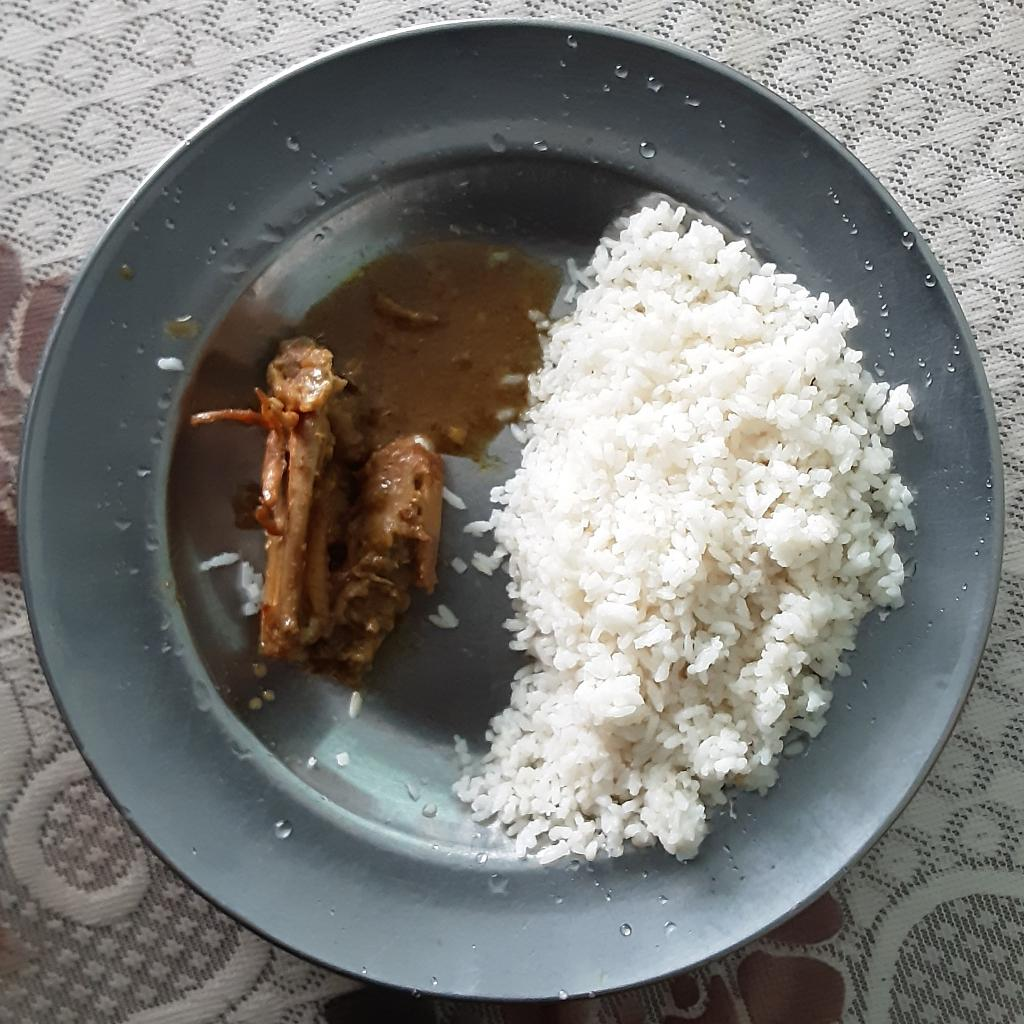chicken: (189, 234, 562, 672)
rice: (448, 192, 920, 870), (445, 482, 468, 515)
